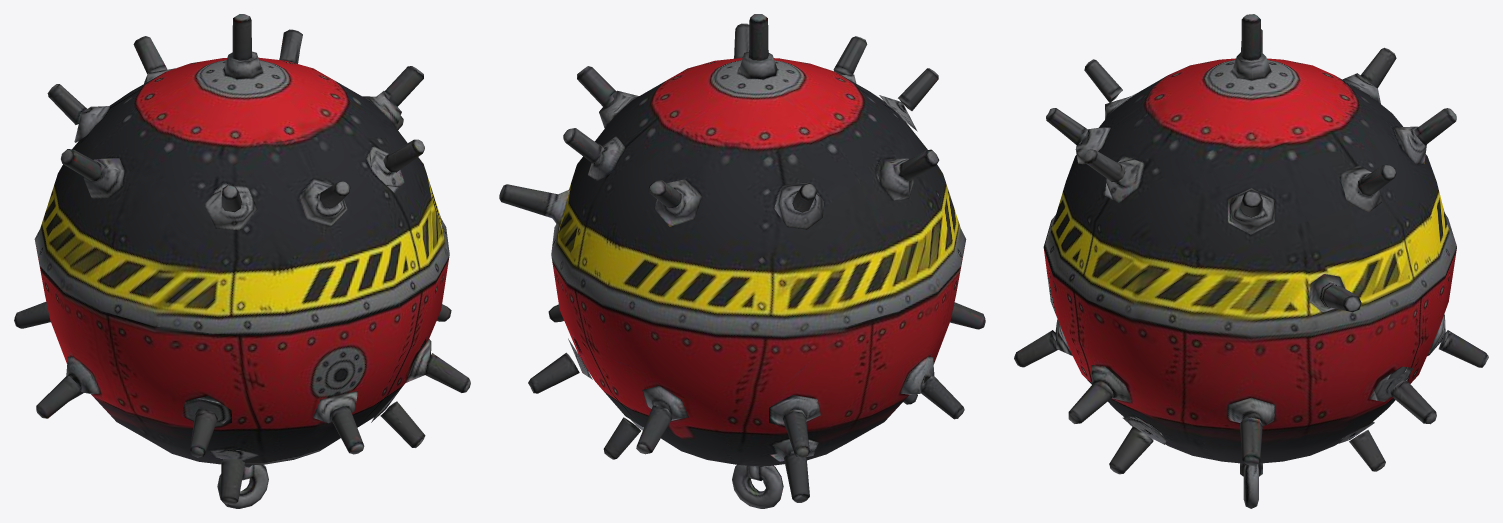
File: mine.glb
The picture shows the model from 3 angles, left to right: view 1: azimuth 30°, elevation 25°; view 2: azimuth 150°, elevation 25°; view 3: azimuth 270°, elevation 25°; orthographic projection.
Size of the model in its own units: 0.8394 by 0.9521 by 0.8379.
Materials: 1 (1 with a texture image).
